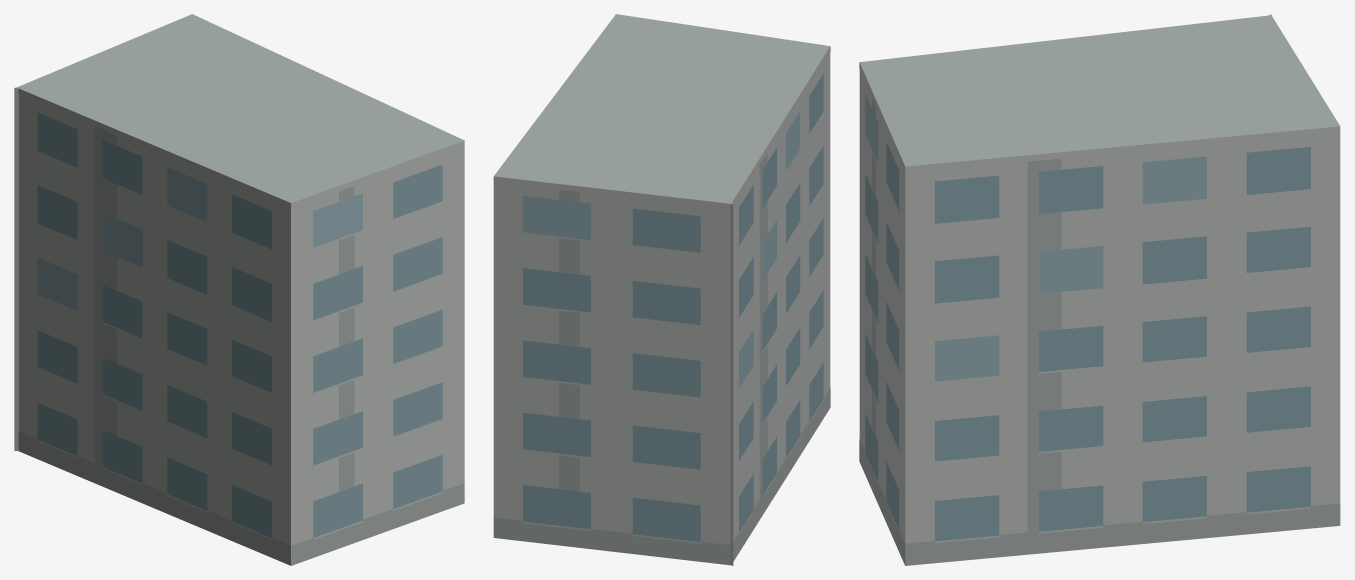
File: survey-upis-32838336.glb
The picture shows the model from 3 angles, left to right: view 1: azimuth 30°, elevation 25°; view 2: azimuth 150°, elevation 25°; view 3: azimuth 270°, elevation 25°; orthographic projection. The views are drawn at different scales.
Parts seen in each view (by area): view 1: survey-upis-32838336.tmp; view 2: survey-upis-32838336.tmp; view 3: survey-upis-32838336.tmp.
Boxes of the visible parts, x1=… form: survey-upis-32838336.tmp: x1=14, y1=14, x2=464, y2=565; survey-upis-32838336.tmp: x1=493, y1=14, x2=830, y2=565; survey-upis-32838336.tmp: x1=859, y1=14, x2=1340, y2=565.
Size of the model in its own units: 12.5 by 15.25 by 16.66.
